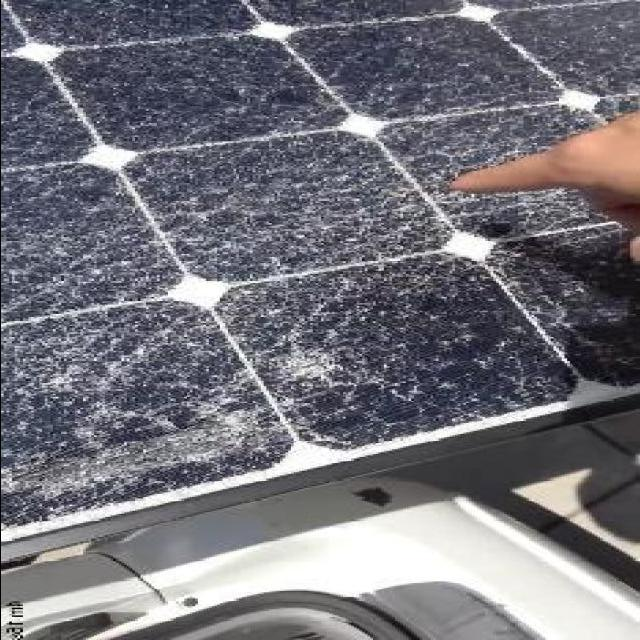cracked: (2, 1, 640, 513)
